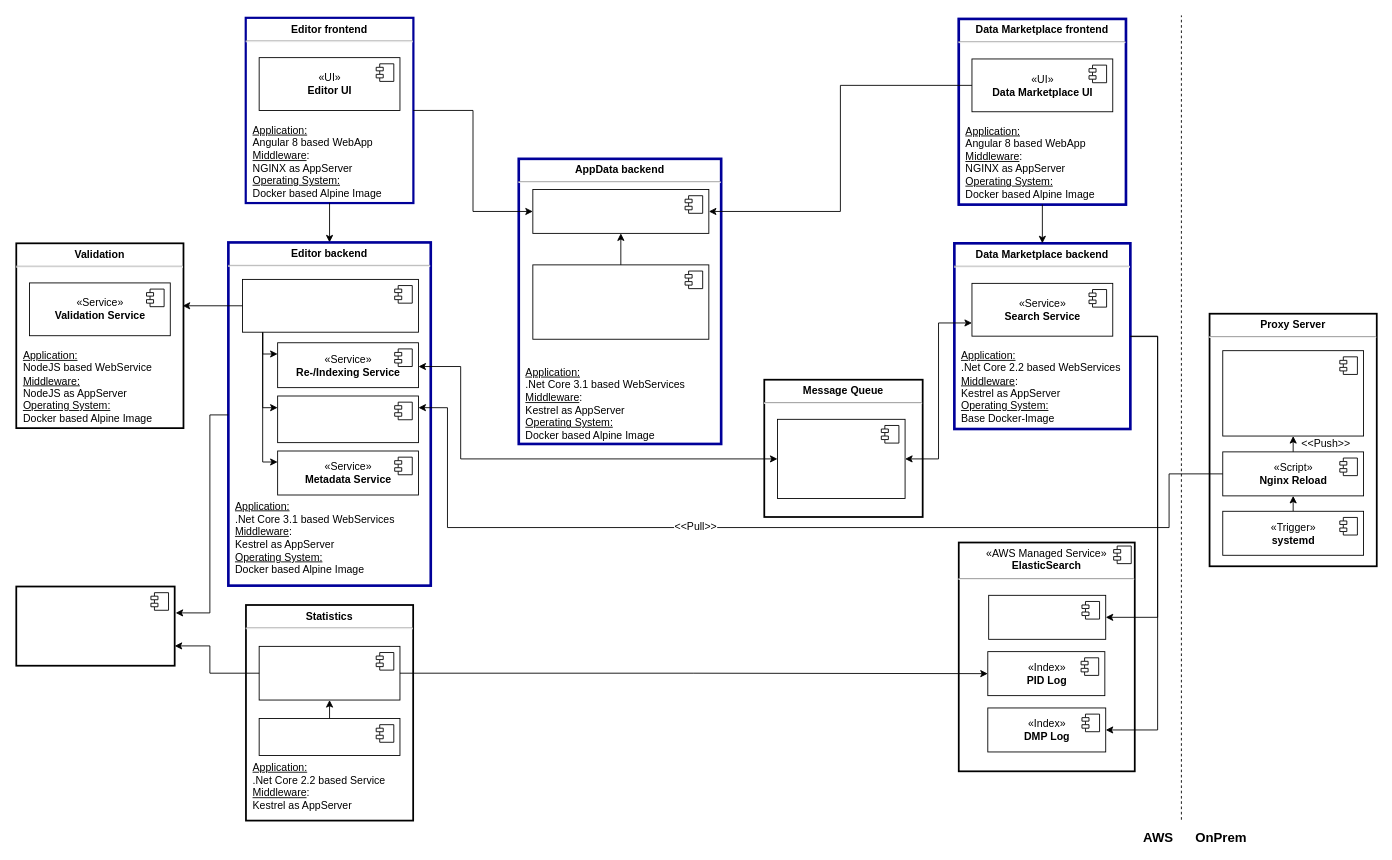
Image size: 1392x860. Some labels were removed from this diagram. The shapes that lost their labels are listed below. From the top down, each one's centre as x and y in pixels, then its label:
(620,211): «Service» AppData Service
(330,305): «Service» RegistrationService
(620,301): «Service» Scheduler Service Library: Hangfire (background processing)
(1293,393): «Proxy Server» NGINX
(347,419): «Service» Proxy Config Service
(841,458): «Docker Image» RabbitMQ
(95,625): «AWS Managed Service» Neptune
(1047,616): «Index» DMP Data
(329,672): «Service» Statistics Job
(329,736): «Trigger» Kubernetes Cron
